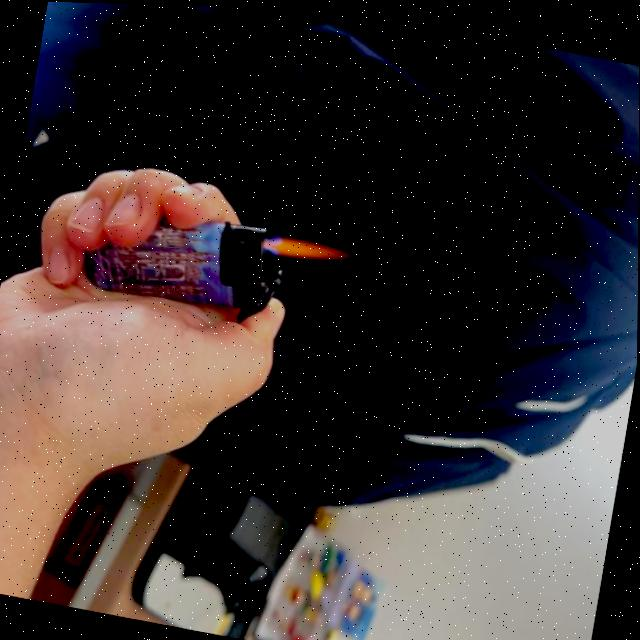Fire: (265, 225, 358, 272)
